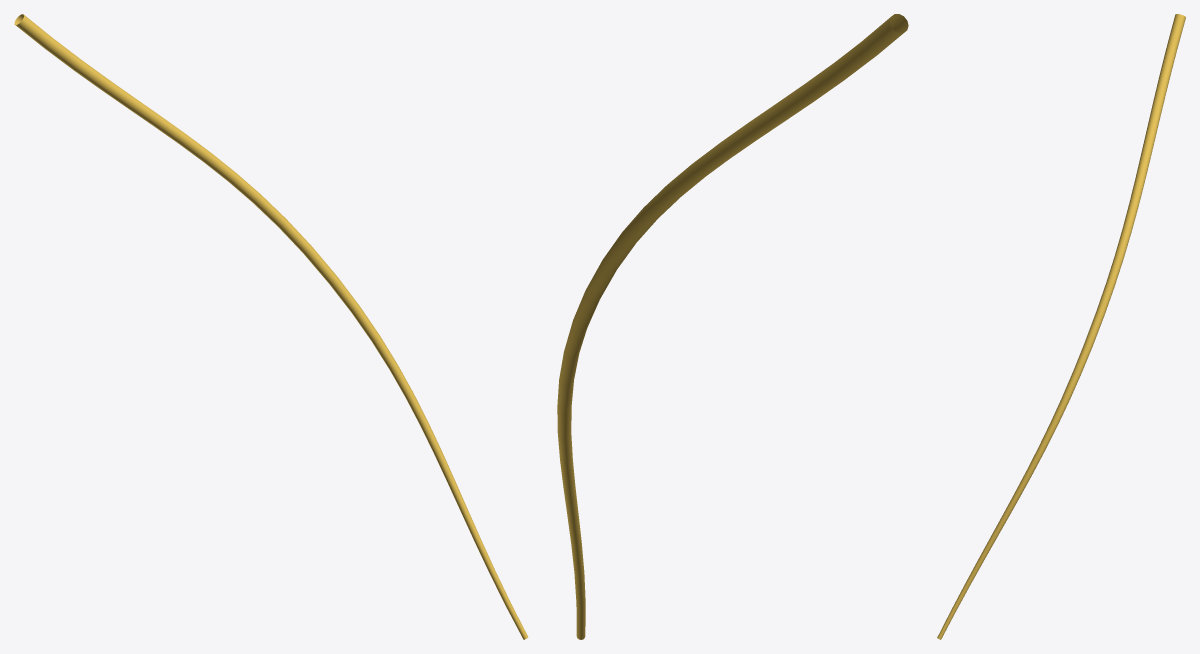
File: Inferior_lateral_brachial_cutaneous_nerve_left.glb
3 renders of one model, left to right at view 1: azimuth 30°, elevation 25°; view 2: azimuth 150°, elevation 25°; view 3: azimuth 270°, elevation 25°, orthographic. The views are drawn at different scales.
Parts seen in each view (by area): view 1: Inferior_lateral_brachial_cutaneous_nerve.l_BezierCurve.523; view 2: Inferior_lateral_brachial_cutaneous_nerve.l_BezierCurve.523; view 3: Inferior_lateral_brachial_cutaneous_nerve.l_BezierCurve.523.
Part boxes in pixels (<box>): Inferior_lateral_brachial_cutaneous_nerve.l_BezierCurve.523: <box>14,14,528,639</box>; Inferior_lateral_brachial_cutaneous_nerve.l_BezierCurve.523: <box>557,14,908,639</box>; Inferior_lateral_brachial_cutaneous_nerve.l_BezierCurve.523: <box>937,14,1185,639</box>.
Bounding box in the file's own units: 0.0301 × 0.0475 × 0.022.
